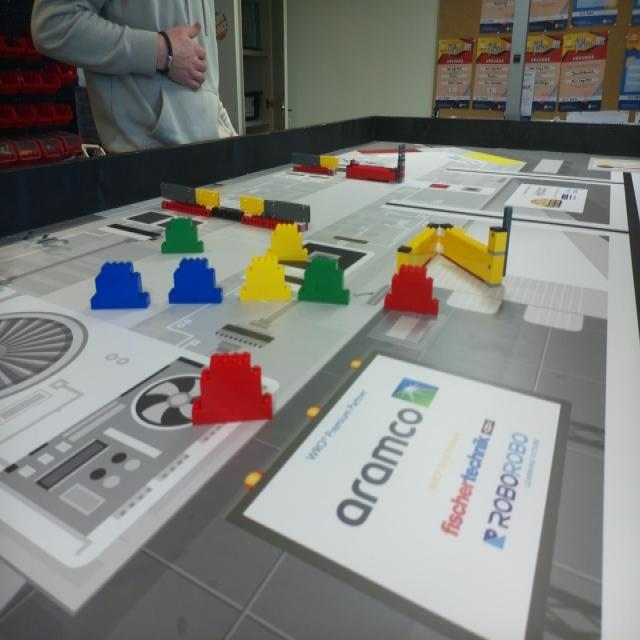blau: (91, 259, 149, 307), (172, 258, 221, 304)
gruen: (299, 257, 349, 305), (160, 220, 205, 252)
rot: (189, 349, 274, 428), (384, 264, 439, 317)
yellow: (242, 259, 285, 298), (267, 223, 308, 260)
